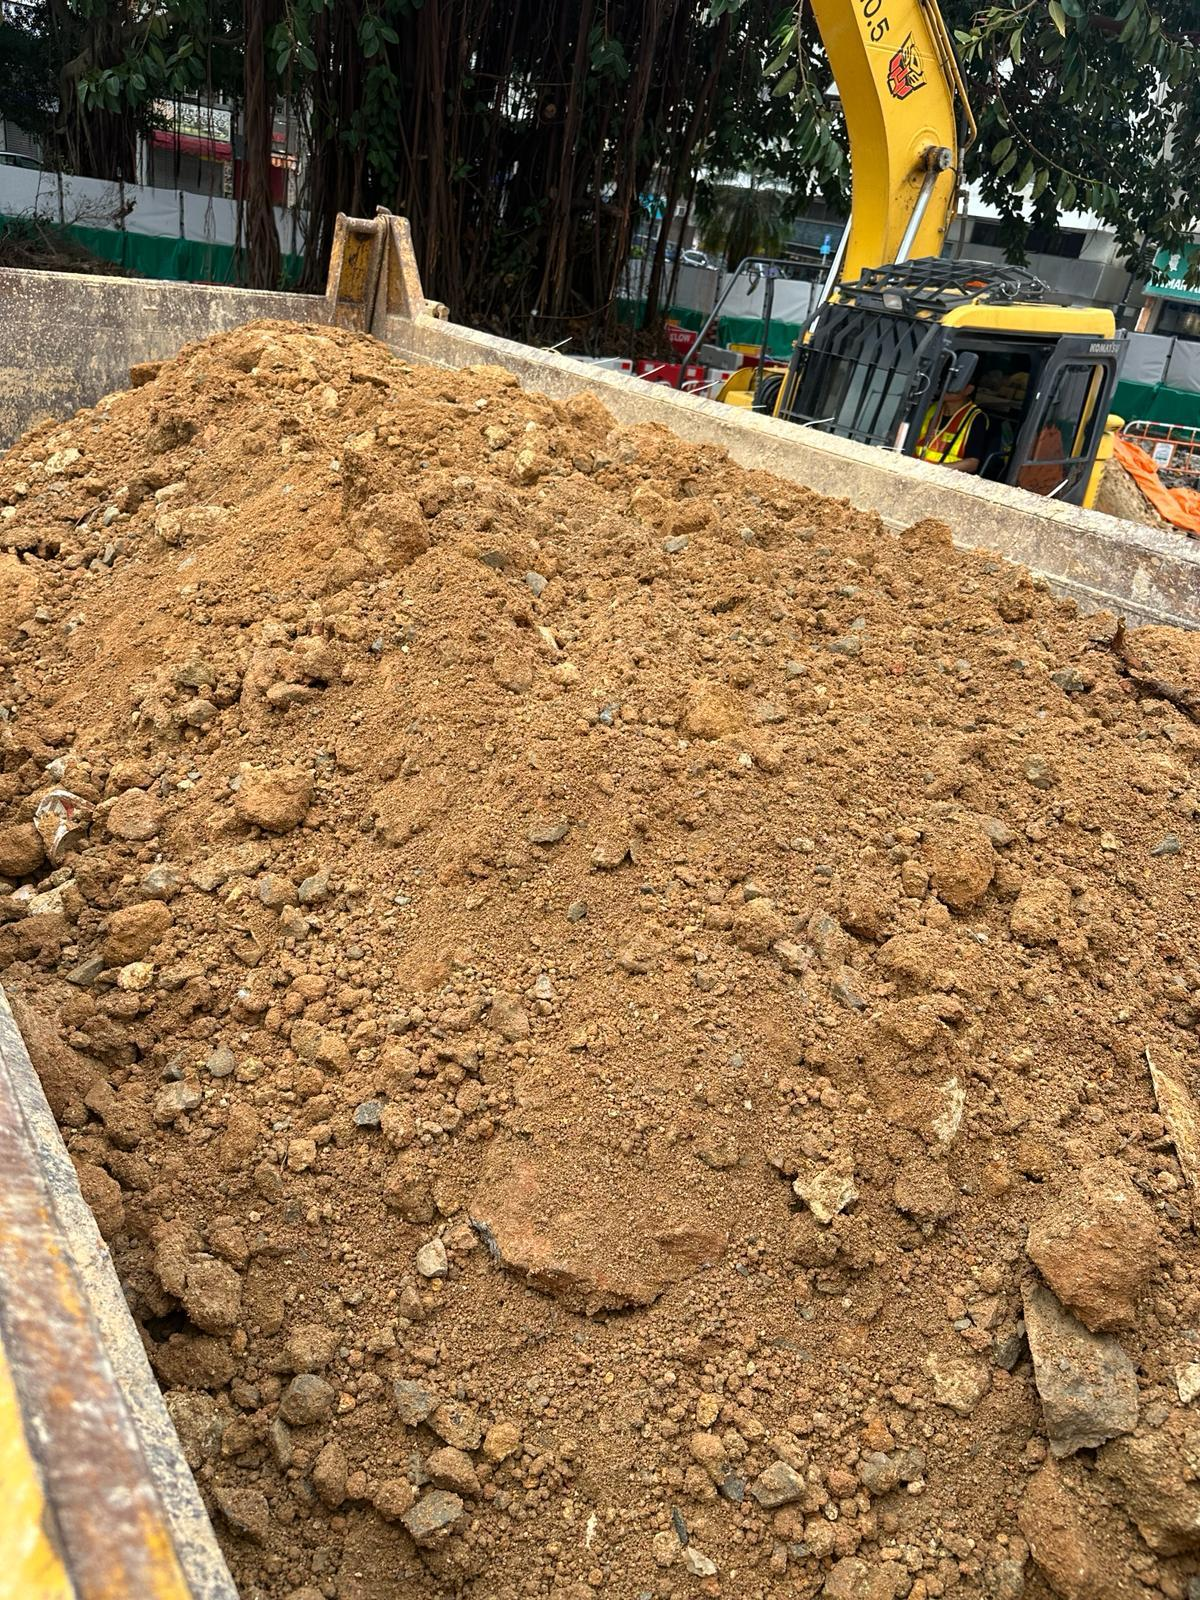dry: (0, 323, 1200, 1600)
